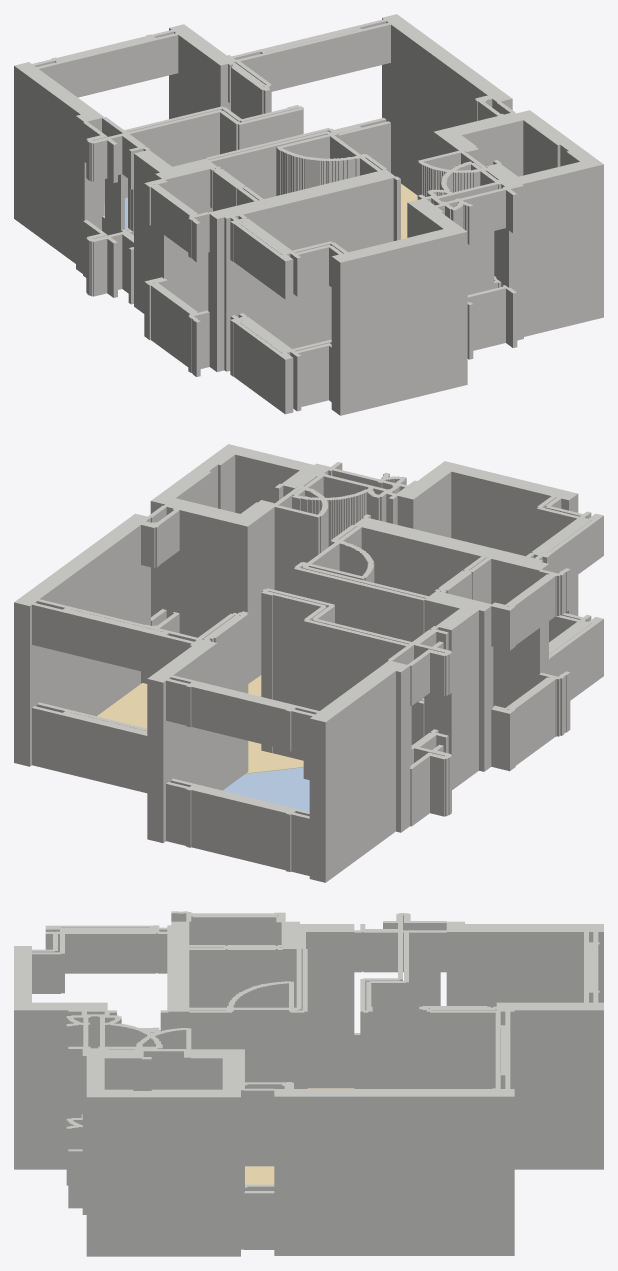
The picture shows the model from 3 angles, top to bottom: view 1: azimuth 30°, elevation 25°; view 2: azimuth 150°, elevation 25°; view 3: azimuth 270°, elevation 25°; orthographic projection. The views are drawn at different scales.
Visible parts, largest first — view 1: walls; view 2: walls, room:living:1, room:bedroom:0; view 3: walls, room:living:1.
Part boxes in pixels (bbox=[...]): walls: bbox=[14, 14, 603, 415]; walls: bbox=[14, 444, 603, 882]; room:living:1: bbox=[97, 675, 303, 773]; room:bedroom:0: bbox=[223, 767, 309, 811]; walls: bbox=[14, 911, 603, 1256]; room:living:1: bbox=[245, 1088, 354, 1184].
Bounding box in the file's own units: 7.02 × 2.8 × 9.4.
